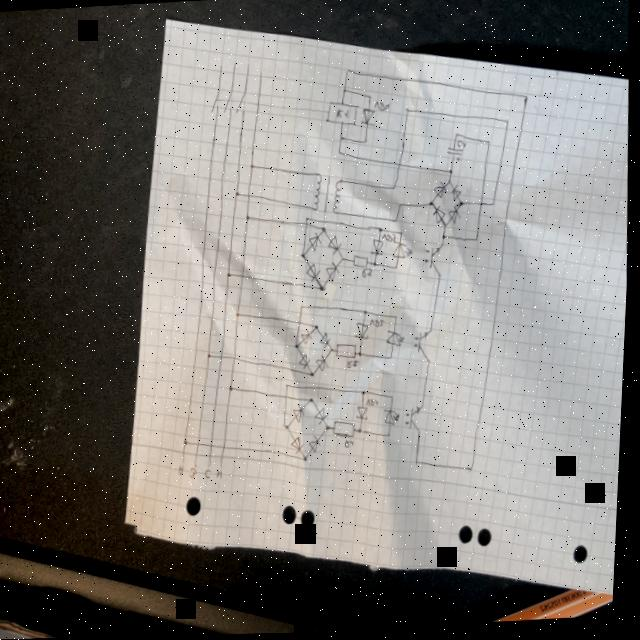capacitor: (446, 148, 466, 164)
crossover: (298, 318, 307, 329), (245, 190, 254, 201), (198, 439, 207, 449), (220, 352, 229, 362), (240, 272, 249, 282), (211, 440, 219, 451), (304, 223, 312, 234), (224, 442, 232, 452), (286, 393, 294, 403), (234, 354, 242, 364), (397, 161, 405, 171), (479, 200, 487, 210)
diode: (327, 263, 343, 283), (433, 207, 449, 227), (309, 233, 324, 253), (329, 236, 343, 257), (317, 408, 333, 426), (307, 265, 323, 283), (357, 323, 372, 342), (434, 183, 450, 200), (361, 110, 376, 128), (372, 240, 387, 257), (294, 438, 308, 456), (449, 208, 463, 226), (311, 437, 325, 454), (300, 355, 314, 371), (319, 356, 332, 373), (297, 405, 308, 424), (451, 186, 464, 202), (303, 330, 315, 346), (322, 334, 334, 350), (359, 408, 372, 422)
junction: (321, 286, 329, 294), (391, 185, 398, 194), (235, 191, 242, 199), (250, 163, 257, 171), (339, 136, 346, 144), (454, 135, 461, 143), (443, 234, 450, 242), (301, 306, 308, 314), (360, 350, 367, 358), (286, 424, 293, 432), (417, 460, 424, 468), (423, 404, 430, 412), (337, 149, 343, 158), (362, 138, 368, 147), (449, 168, 455, 177), (475, 237, 481, 246), (444, 222, 450, 231), (448, 180, 454, 189), (306, 215, 312, 224), (186, 438, 192, 446), (231, 385, 237, 393), (209, 352, 215, 360), (237, 312, 243, 320), (228, 271, 234, 279), (246, 214, 252, 222), (367, 95, 373, 103), (342, 88, 348, 96), (345, 68, 351, 76), (405, 108, 411, 116), (486, 140, 492, 148), (505, 120, 511, 128), (524, 96, 530, 104), (492, 201, 498, 209), (430, 202, 436, 210), (460, 202, 466, 210), (394, 218, 400, 226), (400, 203, 406, 211), (380, 227, 386, 235), (301, 253, 307, 261), (322, 228, 328, 236), (342, 256, 348, 264), (366, 309, 372, 317), (472, 467, 478, 475), (420, 429, 426, 437), (431, 328, 437, 336), (364, 391, 370, 398), (390, 356, 395, 363), (396, 315, 401, 322), (440, 275, 445, 282), (429, 359, 434, 366), (393, 395, 398, 402), (361, 428, 366, 435), (390, 433, 395, 440), (312, 398, 317, 405), (288, 384, 293, 391), (329, 425, 334, 432), (307, 457, 312, 464), (332, 348, 337, 355), (297, 344, 302, 351), (401, 232, 406, 238), (317, 325, 321, 332), (313, 372, 317, 379), (443, 244, 447, 250), (396, 266, 400, 272), (375, 262, 379, 268)
resistor: (335, 422, 359, 439), (338, 344, 361, 361), (355, 255, 370, 270)
switch: (236, 91, 249, 116), (223, 88, 235, 115), (210, 89, 222, 115)
terminal: (210, 462, 217, 471), (184, 457, 190, 466), (219, 62, 225, 71), (246, 62, 252, 71), (196, 461, 202, 469), (222, 462, 228, 470), (232, 60, 237, 69), (259, 68, 264, 77)
text: (375, 101, 391, 113), (336, 109, 350, 122), (384, 234, 398, 245), (372, 320, 388, 329), (349, 362, 363, 370), (363, 270, 374, 280), (348, 440, 358, 451), (369, 400, 382, 408), (182, 465, 189, 477), (194, 468, 201, 480), (458, 142, 468, 150), (209, 470, 216, 480), (221, 470, 227, 480)
transformer: (312, 174, 346, 217)
